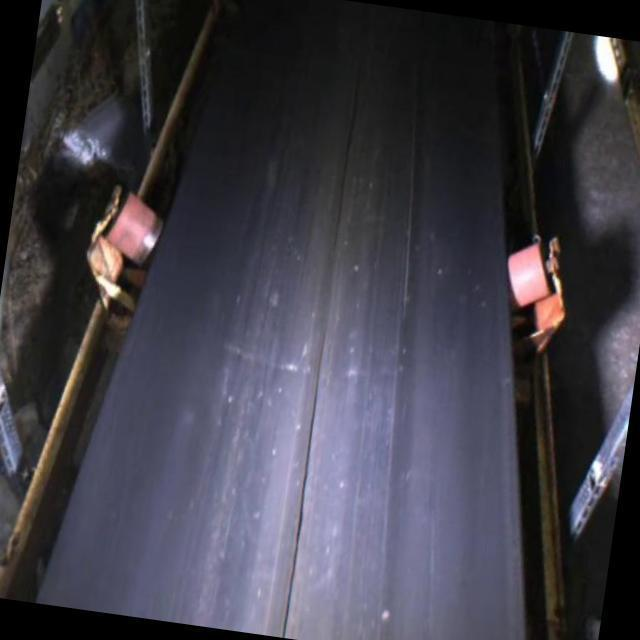Tear: (277, 74, 372, 640)
